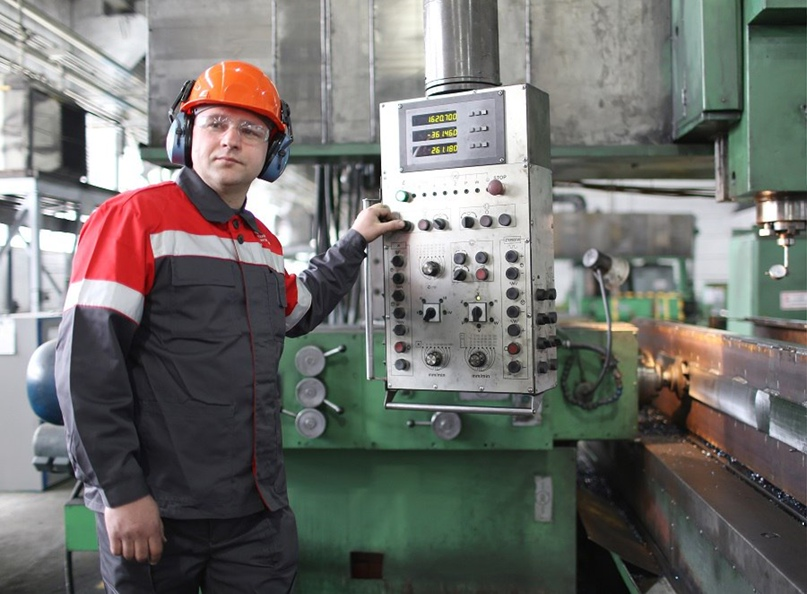person: (55, 62, 405, 594)
